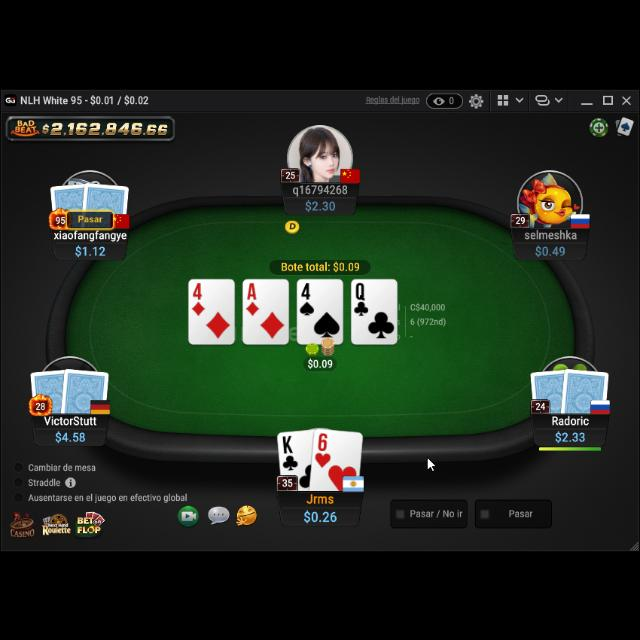4d: (190, 282, 206, 316)
4s: (298, 280, 316, 316)
6h: (314, 430, 332, 468)
Ad: (245, 280, 261, 316)
Kc: (282, 433, 300, 471)
Qc: (353, 282, 369, 316)
bet_text: (306, 355, 336, 369)
card_back: (559, 364, 611, 418), (61, 365, 111, 415), (528, 366, 572, 414), (29, 366, 71, 416), (82, 182, 130, 216), (49, 182, 90, 216)
dealer: (284, 216, 300, 234)
pot_text: (280, 260, 360, 270)
stack_text: (304, 505, 338, 523), (303, 197, 337, 211), (54, 428, 86, 442), (74, 242, 106, 256), (534, 242, 566, 256), (554, 428, 586, 442)
